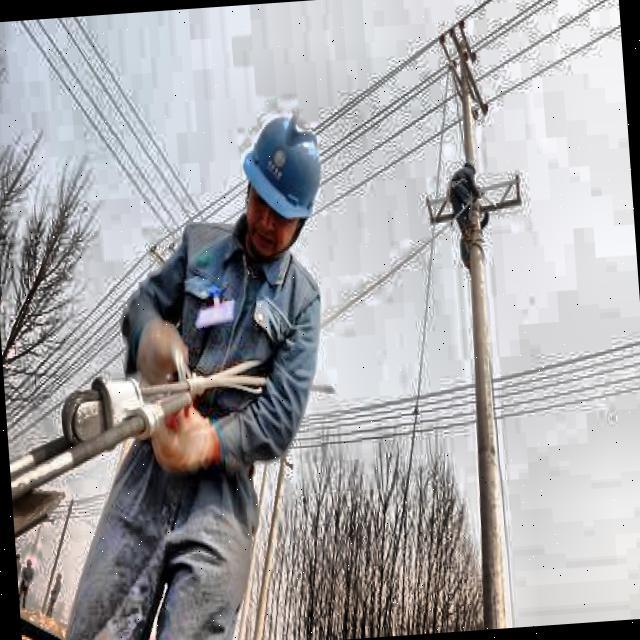helmet: (230, 93, 338, 270)
